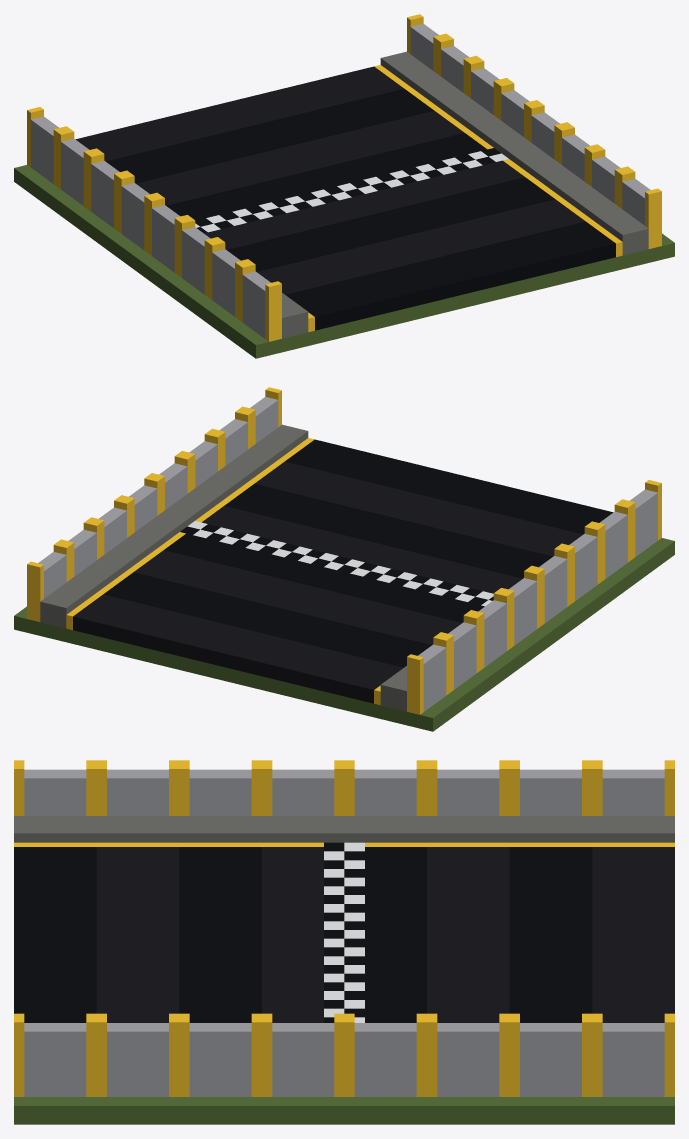
File: tile_start.glb
The picture shows the model from 3 angles, top to bottom: view 1: azimuth 30°, elevation 25°; view 2: azimuth 150°, elevation 25°; view 3: azimuth 270°, elevation 25°; orthographic projection. The views are drawn at different scales.
Visible parts, largest first — view 1: tile_start; view 2: tile_start; view 3: tile_start.
Part boxes in pixels (bbox=[...]): tile_start: bbox=[14, 14, 674, 358]; tile_start: bbox=[14, 387, 674, 731]; tile_start: bbox=[14, 760, 674, 1124].
Bounding box in the file's own units: 4 × 0.625 × 4.
Materials: 1 (1 with a texture image).
